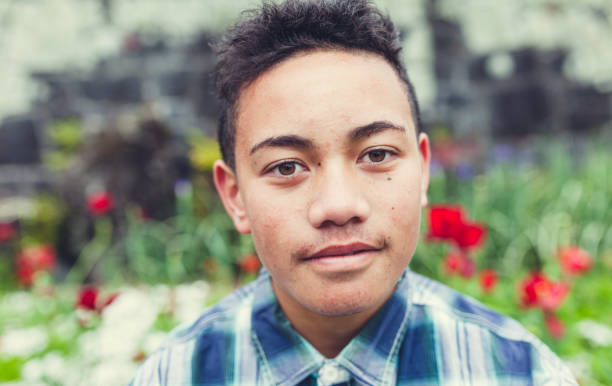face: (240, 86, 425, 315)
